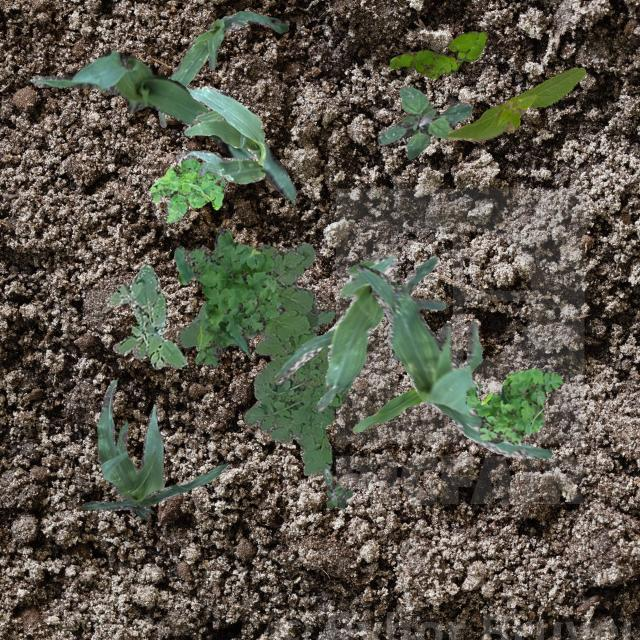crop: (28, 48, 296, 198), (354, 264, 550, 458), (272, 254, 438, 411), (80, 378, 226, 518), (158, 10, 288, 126), (446, 66, 584, 140), (176, 84, 264, 182), (351, 385, 421, 433)
weed: (176, 241, 350, 474), (174, 226, 280, 368), (105, 264, 186, 368), (464, 366, 562, 444), (376, 85, 472, 158), (150, 156, 223, 222), (388, 29, 486, 78), (322, 468, 352, 508)
